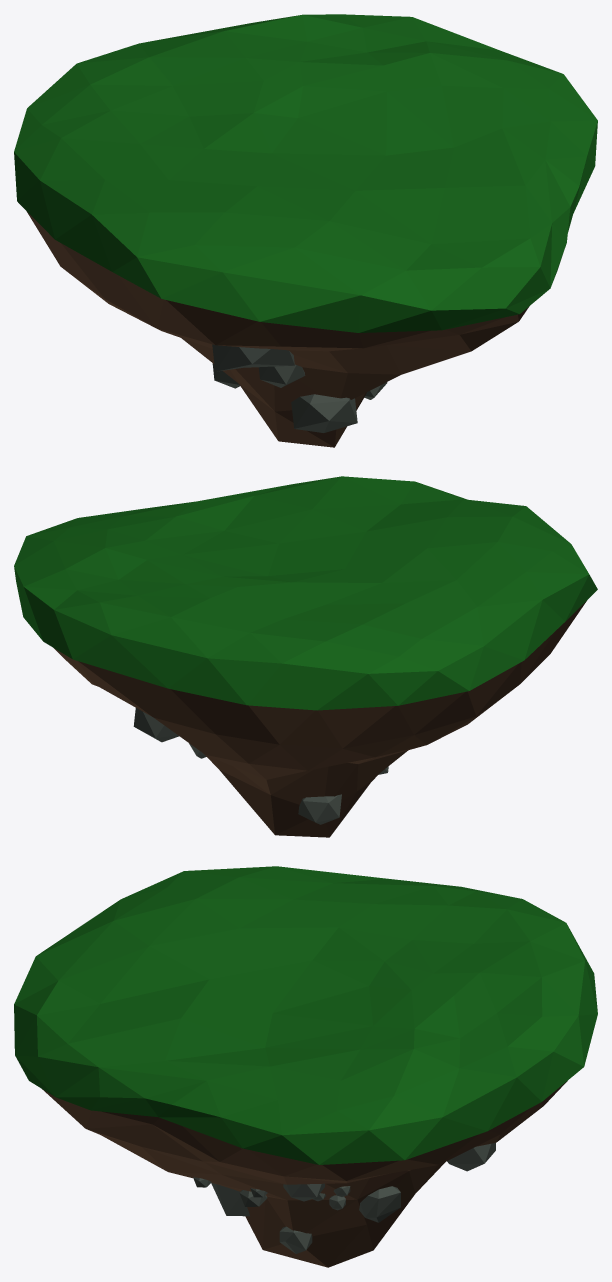
File: island1.4.fbx
3 views of the same model, one above another, from view 1: azimuth 30°, elevation 25°; view 2: azimuth 150°, elevation 25°; view 3: azimuth 270°, elevation 25° (orthographic). The views are drawn at different scales.
Parts seen in each view (by area): view 1: Icosphere; view 2: Icosphere; view 3: Icosphere.
Boxes of the visible parts, bbox=[...] form: Icosphere: bbox=[14, 14, 597, 447]; Icosphere: bbox=[14, 476, 597, 837]; Icosphere: bbox=[14, 866, 597, 1267].
Bounding box in the file's own units: 16677 × 9403 × 16644.
